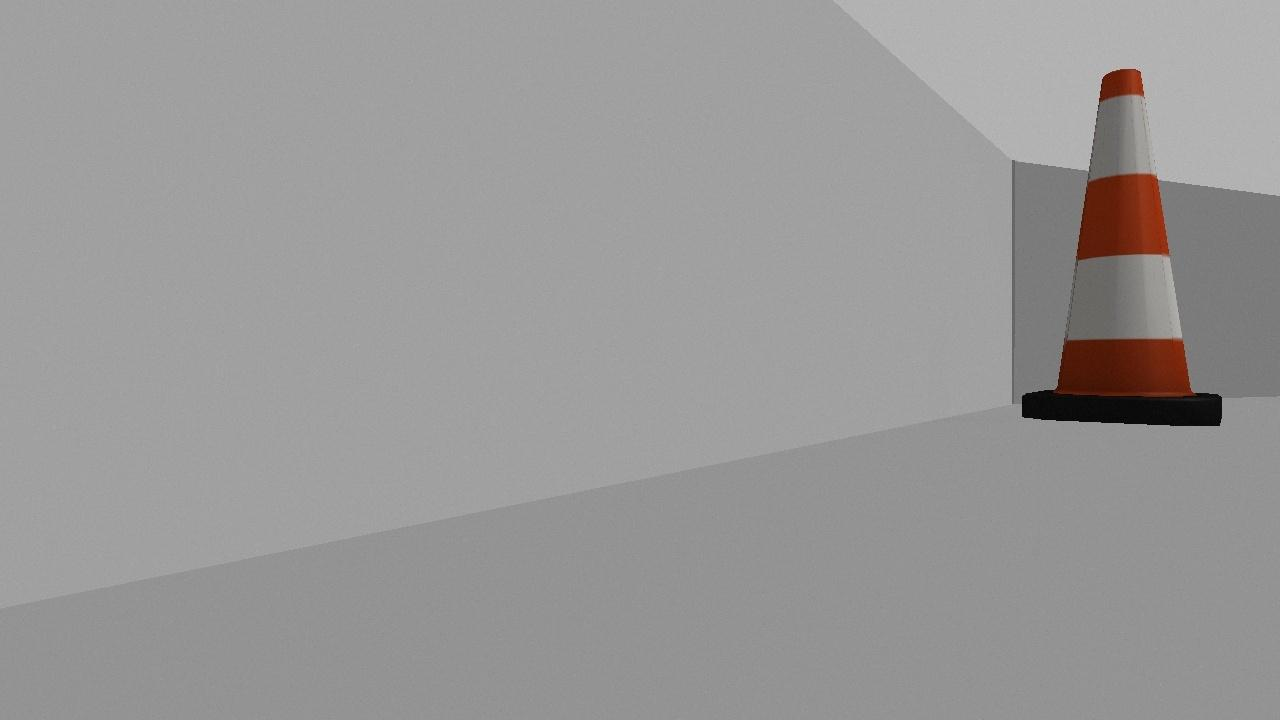cone_barrel: (999, 52, 1238, 441)
